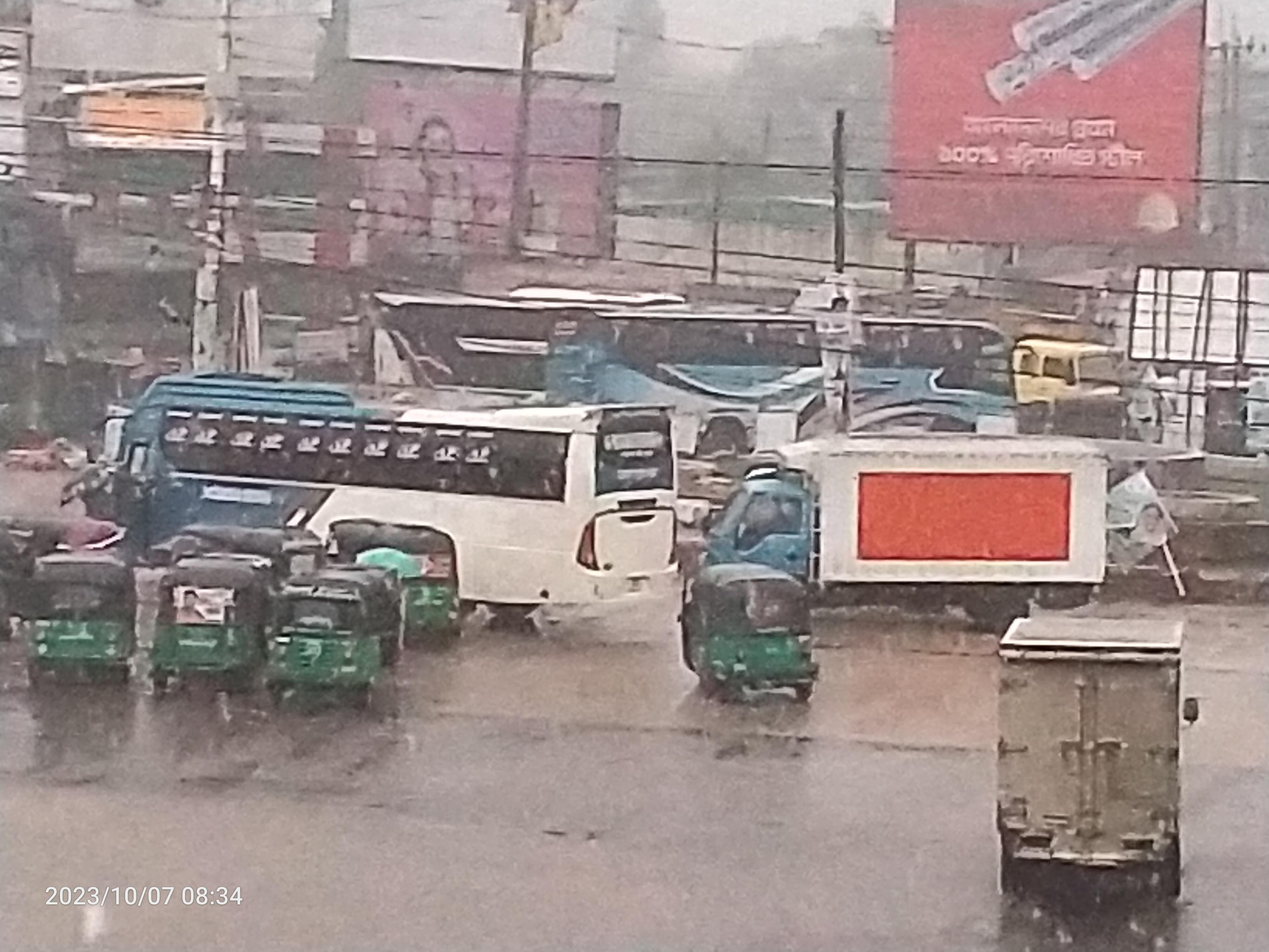Bus: (57, 332, 704, 656), (536, 288, 1038, 468)
Truck: (967, 588, 1243, 952), (698, 415, 1142, 630), (990, 297, 1139, 461)
